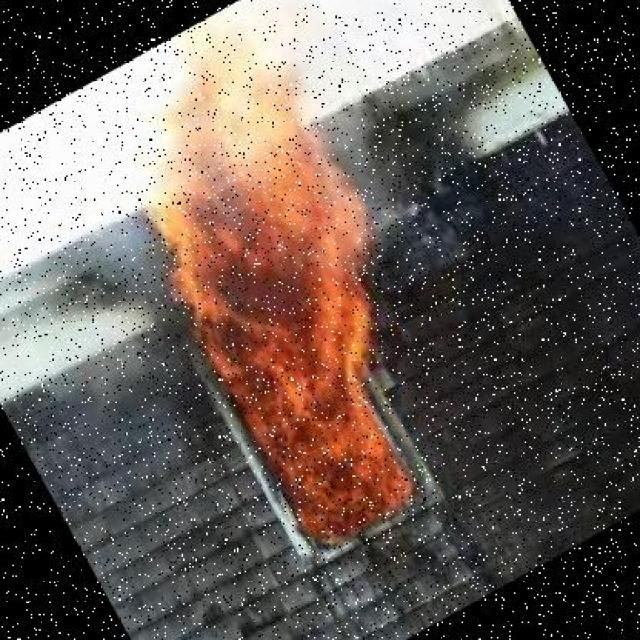fire: (71, 32, 526, 588)
